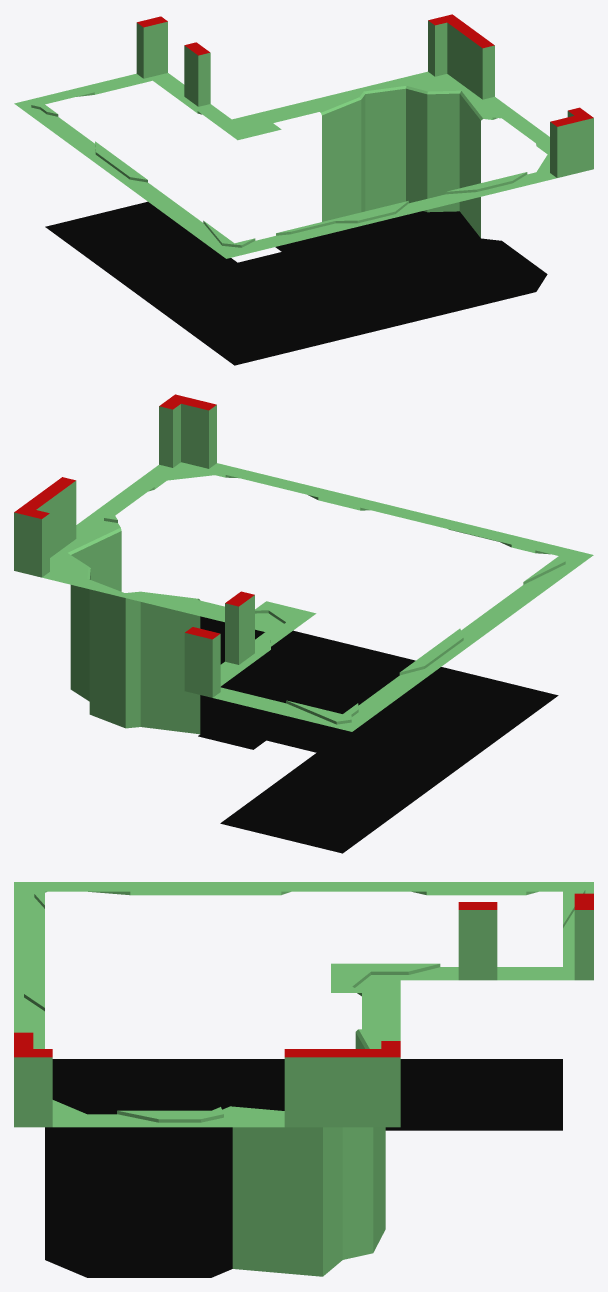
The model's file is x_oo_ground_52_K6_1_rmstrd.fbx.
3 renders of one model, top to bottom at view 1: azimuth 30°, elevation 25°; view 2: azimuth 150°, elevation 25°; view 3: azimuth 270°, elevation 25°, orthographic. The views are drawn at different scales.
Parts seen in each view (by area): view 1: x_oo_ground_52_K6_1_rmstrd1; view 2: x_oo_ground_52_K6_1_rmstrd1; view 3: x_oo_ground_52_K6_1_rmstrd1.
Part boxes in pixels (left/top/right/bottom): x_oo_ground_52_K6_1_rmstrd1: left=14, top=14, right=593, bottom=365; x_oo_ground_52_K6_1_rmstrd1: left=14, top=394, right=593, bottom=853; x_oo_ground_52_K6_1_rmstrd1: left=14, top=882, right=593, bottom=1277.
Size of the model in its own units: 30 by 13.34 by 30.
